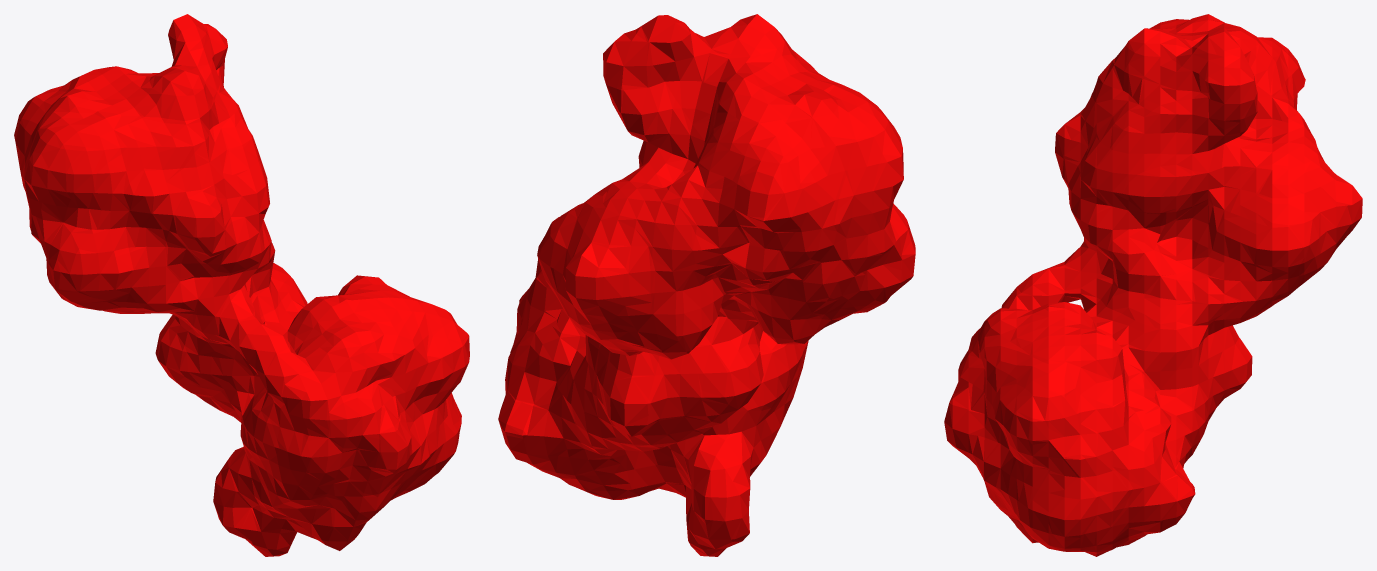
Rendered from Transcobalamin_2_coarse.dae.
3 renders of one model, left to right at view 1: azimuth 30°, elevation 25°; view 2: azimuth 150°, elevation 25°; view 3: azimuth 270°, elevation 25°, orthographic. The views are drawn at different scales.
Parts seen in each view (by area): view 1: Transcobalamin_2; view 2: Transcobalamin_2; view 3: Transcobalamin_2.
Part boxes in pixels (box(x1,y1,x2,y2)): Transcobalamin_2: box(14, 14, 469, 556); Transcobalamin_2: box(498, 14, 915, 556); Transcobalamin_2: box(944, 14, 1362, 556).
Bounding box in the file's own units: 91.68 × 117 × 88.2.
